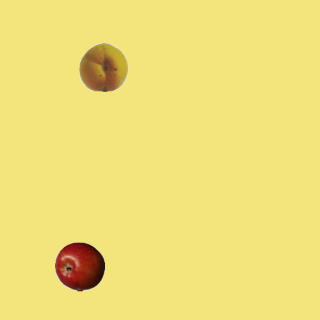Apple Braeburn: (54, 241, 104, 291)
Peach 2: (78, 41, 128, 91)
